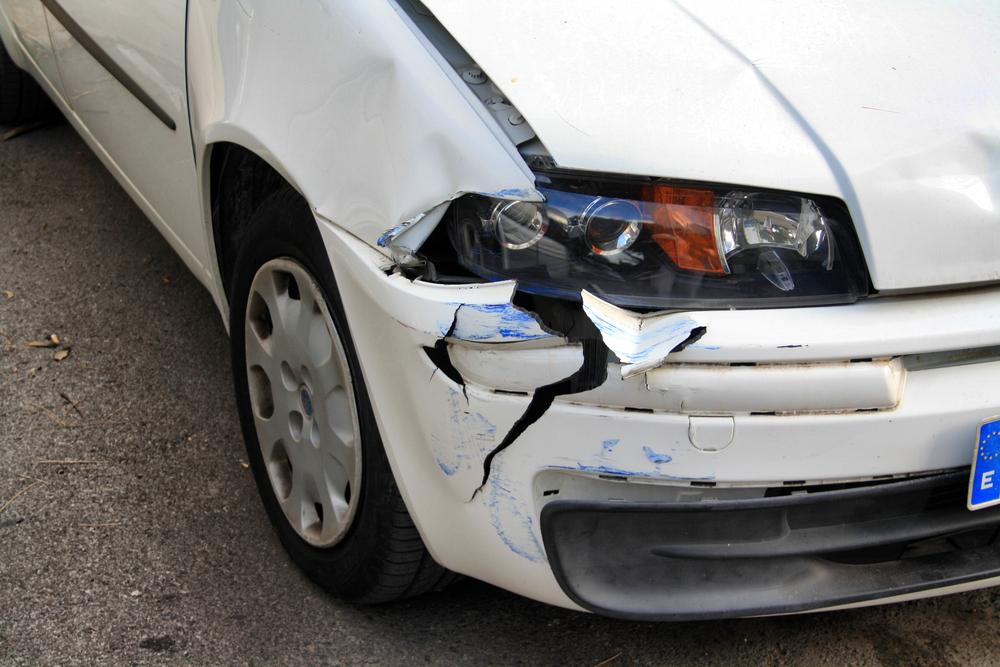crack: (469, 280, 610, 502), (420, 303, 468, 401), (663, 324, 709, 356)
dent: (285, 55, 467, 243), (871, 134, 1000, 212)
scratch: (546, 432, 709, 483), (487, 462, 546, 564), (429, 388, 497, 476), (458, 300, 545, 347)
